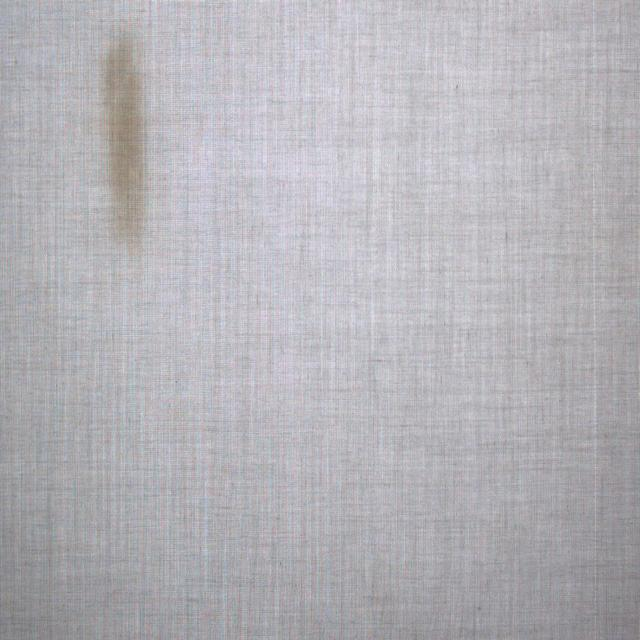dirty: (106, 47, 146, 244)
